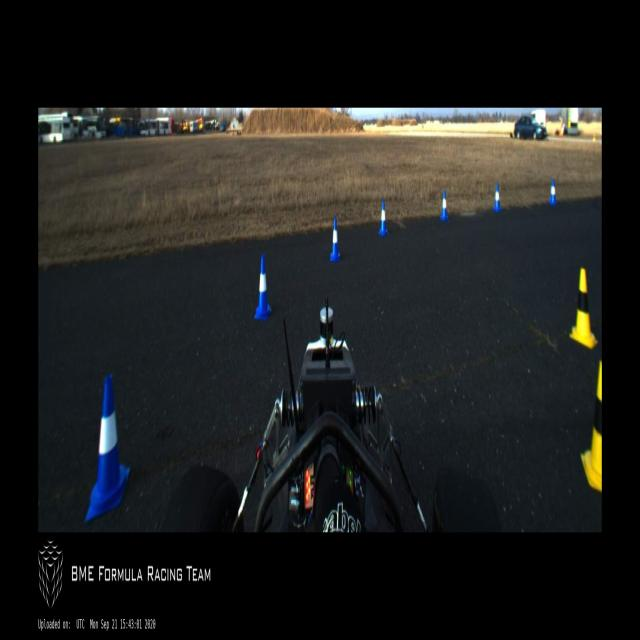blue_cone: (84, 373, 130, 519), (253, 254, 272, 320), (330, 217, 341, 260), (378, 198, 389, 236), (440, 190, 449, 221), (493, 184, 501, 211), (549, 180, 557, 204)
yellow_cone: (581, 360, 602, 492), (570, 269, 596, 349)
